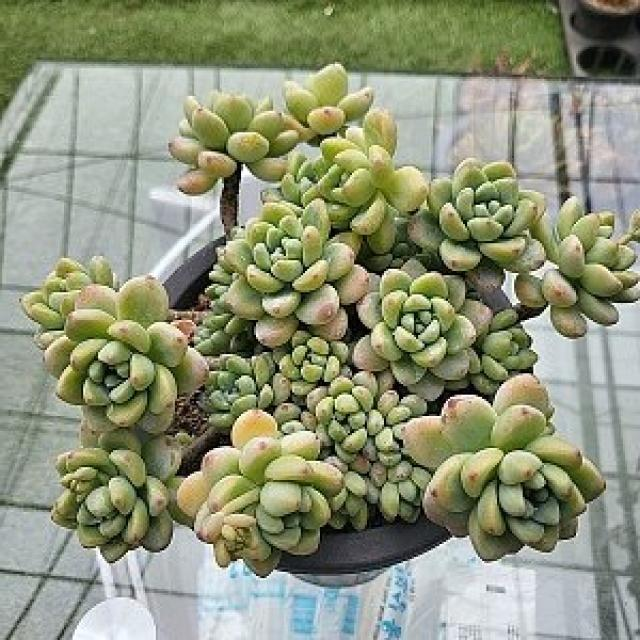LumiRose: (402, 374, 605, 561), (178, 409, 345, 576), (44, 278, 208, 434), (220, 199, 368, 348), (352, 260, 492, 401), (409, 158, 546, 293), (515, 196, 640, 338), (51, 429, 181, 562), (169, 91, 299, 194), (305, 371, 385, 462)
